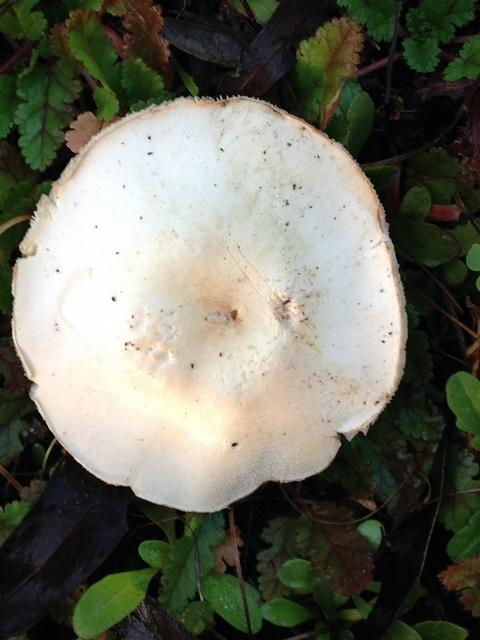poisonous_mushroom: (9, 93, 409, 514)
